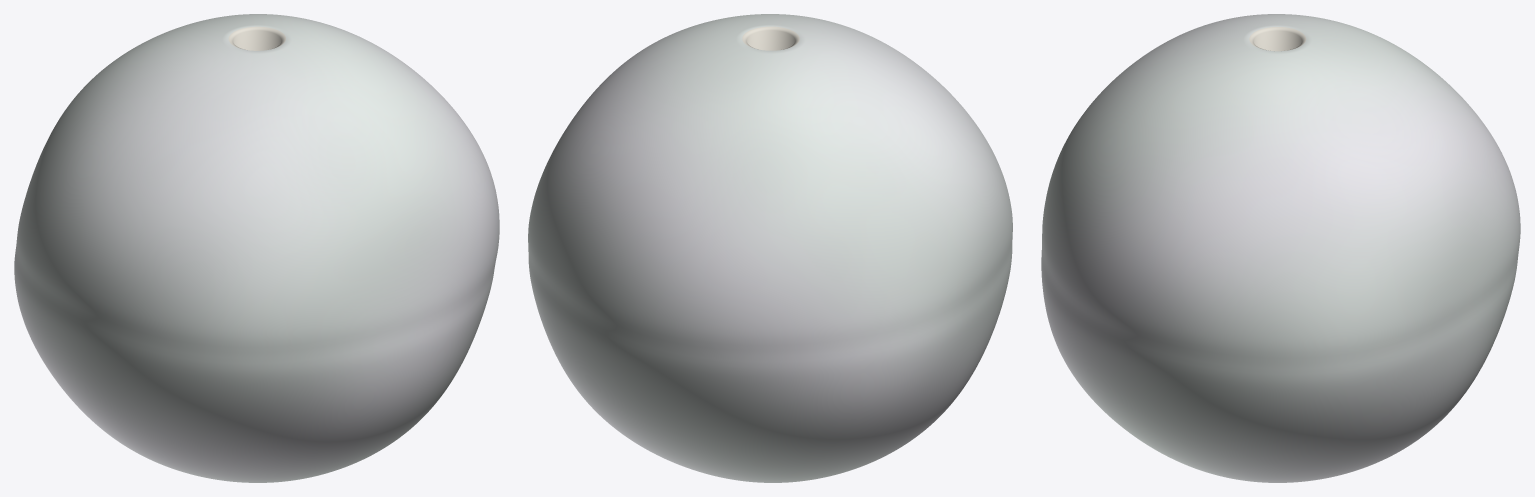
The model's file is pearl-ref-08.glb.
3 views of the same model, side by side, from view 1: azimuth 30°, elevation 25°; view 2: azimuth 150°, elevation 25°; view 3: azimuth 270°, elevation 25° (orthographic).
Visible parts, largest first — view 1: pearl-ref-08; view 2: pearl-ref-08; view 3: pearl-ref-08.
Boxes of the visible parts, x1,y1,x2,y2 form: pearl-ref-08: (14,14,499,482); pearl-ref-08: (528,14,1012,482); pearl-ref-08: (1041,14,1520,482).
Bounding box in the file's own units: 0.008 × 0.00765 × 0.00792.
Materials: 2 (1 with a texture image).
